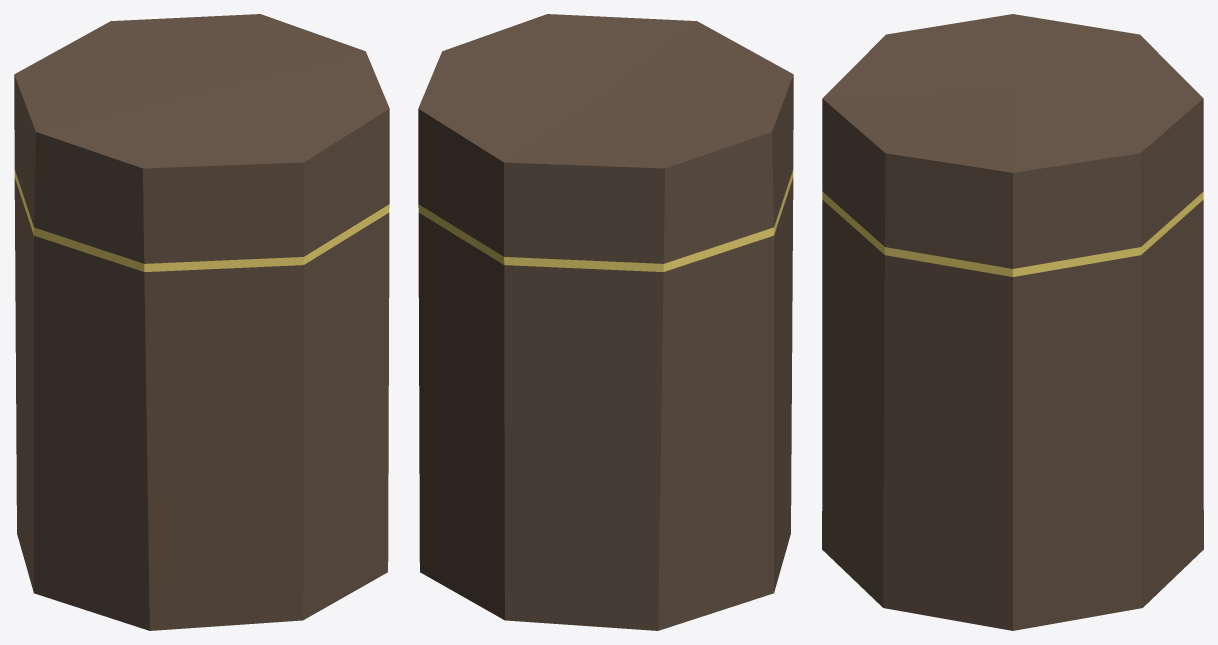
The model's file is Garage_Trashcan.fbx.
The picture shows the model from 3 angles, left to right: view 1: azimuth 30°, elevation 25°; view 2: azimuth 150°, elevation 25°; view 3: azimuth 270°, elevation 25°; orthographic projection.
Visible parts, largest first — view 1: Garage_Trashcan; view 2: Garage_Trashcan; view 3: Garage_Trashcan.
Part boxes in pixels (<box>): Garage_Trashcan: <box>14,14,389,630</box>; Garage_Trashcan: <box>418,14,793,630</box>; Garage_Trashcan: <box>822,14,1203,630</box>.
Bounding box in the file's own units: 28.24 × 37.08 × 28.13.
